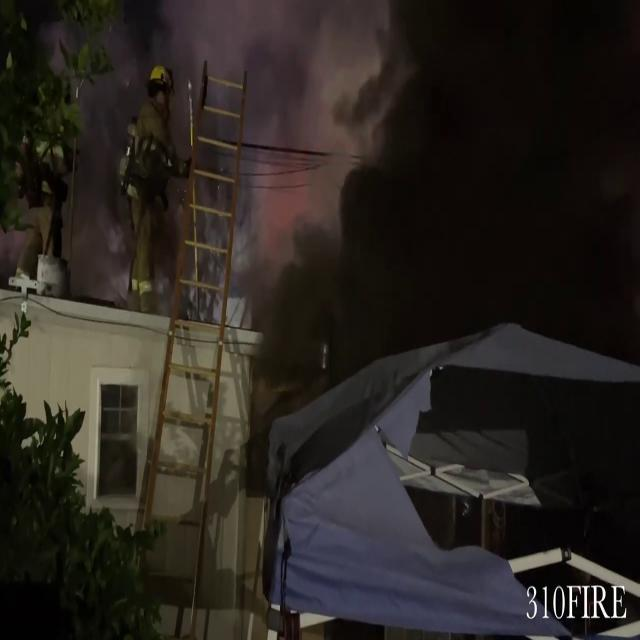Smoke: (59, 0, 434, 293)
